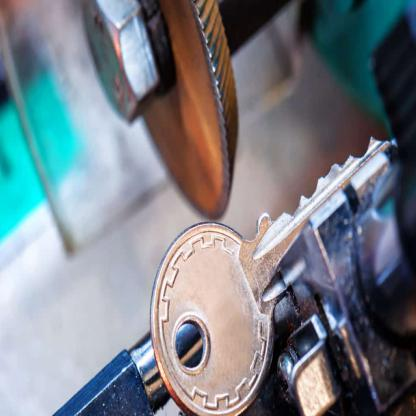keys: (145, 134, 397, 415)
